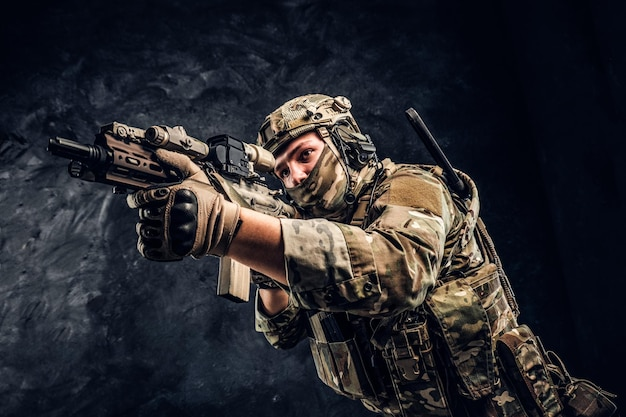gun: (45, 120, 305, 308)
